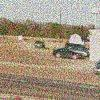cars: (52, 44, 92, 60)
